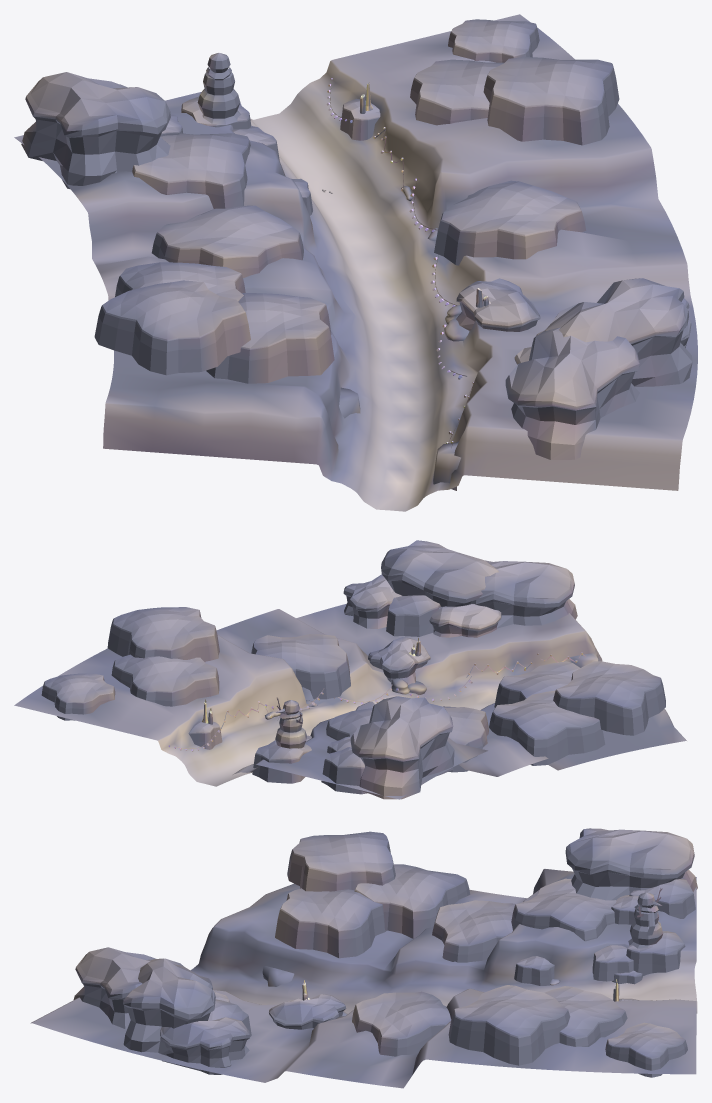
File: Arctic_Luge_Curve_Rigth_40_A.glb
The picture shows the model from 3 angles, top to bottom: view 1: azimuth 30°, elevation 25°; view 2: azimuth 150°, elevation 25°; view 3: azimuth 270°, elevation 25°; orthographic projection. The views are drawn at different scales.
Visible parts, largest first — view 1: Arctic_Luge_Curve_Rigth_40_A, Arctic_Luge_LargeRock_prop, Arctic_Luge_LargeRock_prop (2), Arctic_Luge_MediumIceRock_prop (7), Arctic_Luge_MediumIceRock_prop (1), Arctic_Luge_LargeRock_prop (1), Arctic_Luge_MediumIceRock_prop (4), Arctic_Luge_MediumIceRock_prop (6), Arctic_Luge_MediumIceRock_prop (3), Arctic_Luge_MediumIceRock_prop (2), Arctic_Luge_MediumIceRock_prop, Arctic_Luge_MediumIceRock_prop (8) (+5 smaller); view 2: Arctic_Luge_Curve_Rigth_40_A, Arctic_Luge_LargeRock_prop, Arctic_Luge_MediumIceRock_prop (7), Arctic_Luge_LargeRock_prop (1), Arctic_Luge_LargeRock_prop (2), Arctic_Luge_MediumIceRock_prop (5), Arctic_Luge_MediumIceRock_prop (1), Arctic_Luge_MediumIceRock_prop, Arctic_Luge_MediumIceRock_prop (4), Arctic_Luge_MediumIceRock_prop (8), Arctic_Luge_MediumIceRock_prop (6), Arctic_Luge_MediumRock_prop (2) (+9 smaller); view 3: Arctic_Luge_Curve_Rigth_40_A, Arctic_Luge_LargeRock_prop, Arctic_Luge_MediumIceRock_prop (1), Arctic_Luge_MediumIceRock_prop (6), Arctic_Luge_LargeRock_prop (1), Arctic_Luge_MediumIceRock_prop (7), Arctic_Luge_MediumIceRock_prop (5), Arctic_Luge_MediumIceRock_prop (4), Arctic_Luge_MediumIceRock_prop (3), Arctic_Luge_MediumIceRock_prop (2), Arctic_Luge_LargeRock_prop (2), Arctic_Luge_MediumRock_prop (2) (+10 smaller).
Part boxes in pixels (x1,y1,x2,y2): Arctic_Luge_Curve_Rigth_40_A: (14, 14, 697, 511); Arctic_Luge_LargeRock_prop: (21, 72, 170, 188); Arctic_Luge_LargeRock_prop (2): (505, 327, 639, 459); Arctic_Luge_MediumIceRock_prop (7): (94, 280, 250, 375); Arctic_Luge_MediumIceRock_prop (1): (483, 57, 619, 145); Arctic_Luge_LargeRock_prop (1): (544, 278, 692, 386); Arctic_Luge_MediumIceRock_prop (4): (434, 180, 586, 265); Arctic_Luge_MediumIceRock_prop (6): (206, 293, 334, 383); Arctic_Luge_MediumIceRock_prop (3): (151, 205, 303, 278); Arctic_Luge_MediumIceRock_prop (2): (132, 133, 250, 208); Arctic_Luge_MediumIceRock_prop: (410, 59, 504, 125); Arctic_Luge_MediumIceRock_prop (8): (448, 19, 539, 62); Arctic_Luge_Curve_Rigth_40_A: (14, 604, 686, 799); Arctic_Luge_LargeRock_prop: (350, 696, 454, 799); Arctic_Luge_MediumIceRock_prop (7): (553, 661, 665, 735); Arctic_Luge_LargeRock_prop (1): (381, 540, 498, 606); Arctic_Luge_LargeRock_prop (2): (471, 560, 577, 628); Arctic_Luge_MediumIceRock_prop (5): (489, 690, 605, 765); Arctic_Luge_MediumIceRock_prop (1): (107, 607, 219, 661); Arctic_Luge_MediumIceRock_prop: (111, 654, 219, 706); Arctic_Luge_MediumIceRock_prop (4): (251, 634, 350, 699); Arctic_Luge_MediumIceRock_prop (8): (41, 673, 115, 720); Arctic_Luge_MediumIceRock_prop (6): (494, 661, 579, 707); Arctic_Luge_MediumRock_prop (2): (343, 574, 401, 628); Arctic_Luge_Curve_Rigth_40_A: (30, 869, 697, 1088); Arctic_Luge_LargeRock_prop: (565, 828, 697, 900); Arctic_Luge_MediumIceRock_prop (1): (448, 985, 570, 1065); Arctic_Luge_MediumIceRock_prop (6): (275, 888, 386, 958); Arctic_Luge_LargeRock_prop (1): (123, 958, 215, 1055); Arctic_Luge_MediumIceRock_prop (7): (287, 831, 395, 891); Arctic_Luge_MediumIceRock_prop (5): (354, 864, 470, 938); Arctic_Luge_MediumIceRock_prop (4): (352, 991, 451, 1060); Arctic_Luge_MediumIceRock_prop (3): (432, 900, 515, 962); Arctic_Luge_MediumIceRock_prop (2): (511, 878, 616, 941); Arctic_Luge_LargeRock_prop (2): (73, 947, 183, 1029); Arctic_Luge_MediumRock_prop (2): (160, 1017, 249, 1074).
Bounding box in the file's own units: 33.73 × 10.51 × 38.06.
